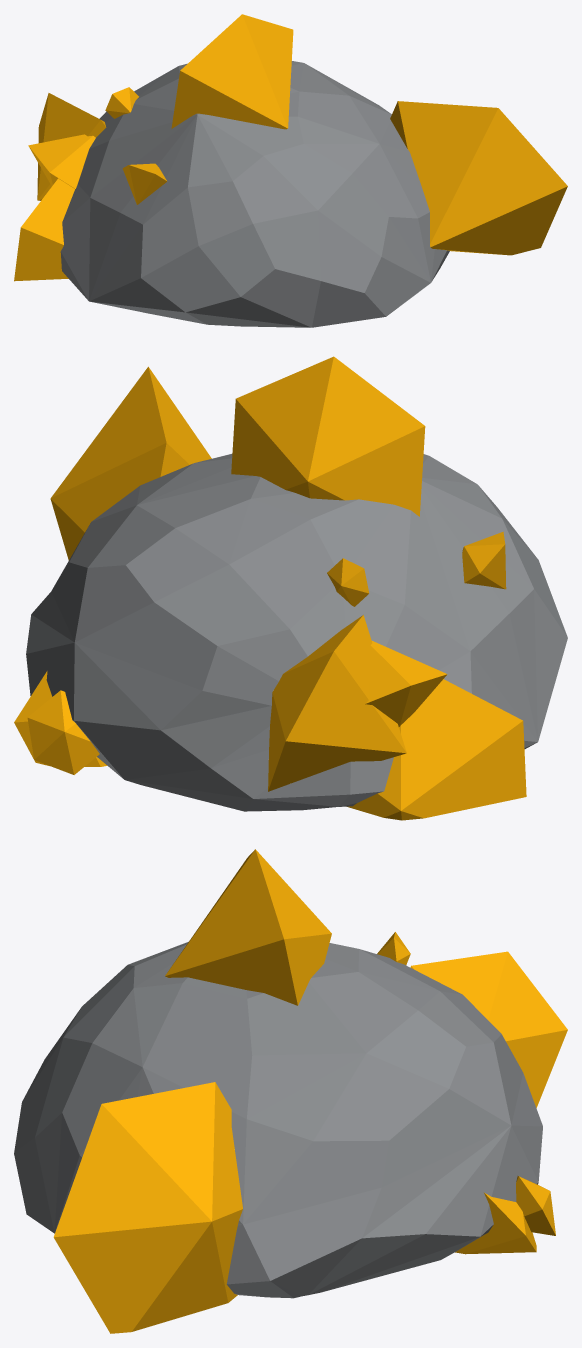
The model's file is CutGemsVar2.fbx.
3 views of the same model, one above another, from view 1: azimuth 30°, elevation 25°; view 2: azimuth 150°, elevation 25°; view 3: azimuth 270°, elevation 25° (orthographic). The views are drawn at different scales.
Parts seen in each view (by area): view 1: CutGemsVar2Granite; view 2: CutGemsVar2Granite; view 3: CutGemsVar2Granite.
Boxes of the visible parts, x1,y1,x2,y2 form: CutGemsVar2Granite: [14, 14, 567, 327]; CutGemsVar2Granite: [14, 356, 567, 820]; CutGemsVar2Granite: [14, 849, 567, 1333].
Size of the model in its own units: 214 by 119 by 181.
